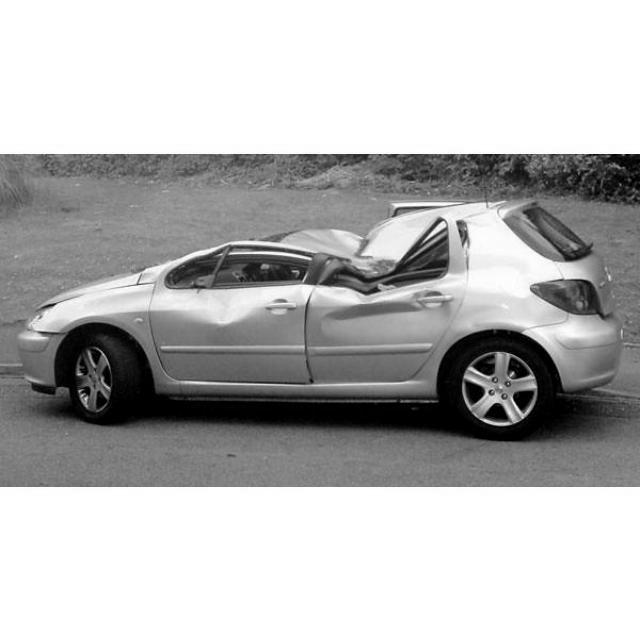doorouter-dent: (152, 279, 320, 384), (308, 284, 458, 372)
fender-dent: (28, 292, 124, 348)
roof-dent: (269, 210, 525, 253)
